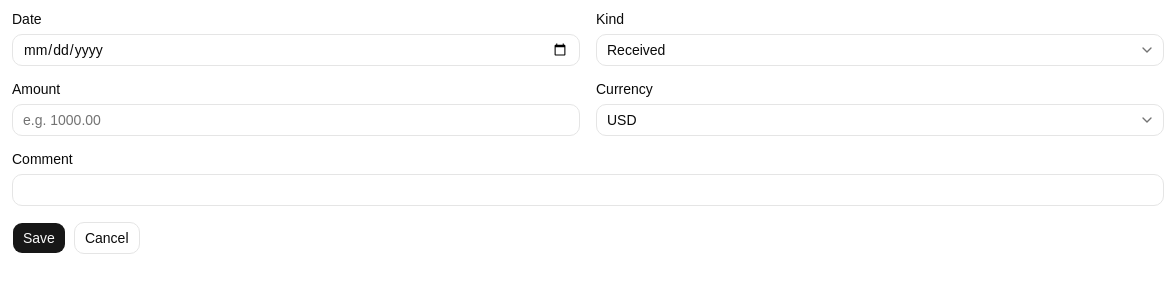
Scenario: DepositMovementForm › shows list-shaped server errors under the field
In the date field labelled "Date": x=296, y=50 [12, 34, 580, 66], type "2026-02-01"
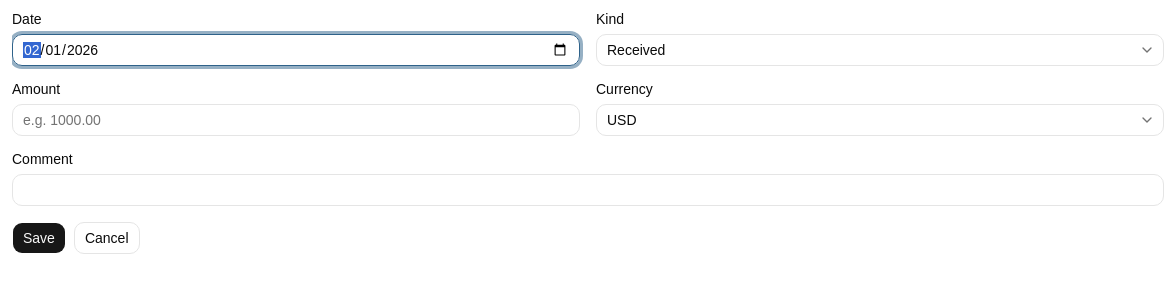
In the field labelled "Amount": x=296, y=120 [12, 104, 580, 136], type "5"
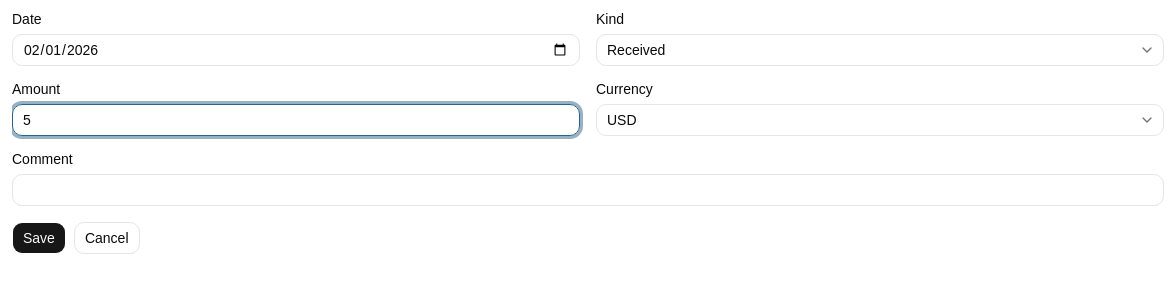
Click the button "Save": x=39, y=238 [12, 222, 66, 254]
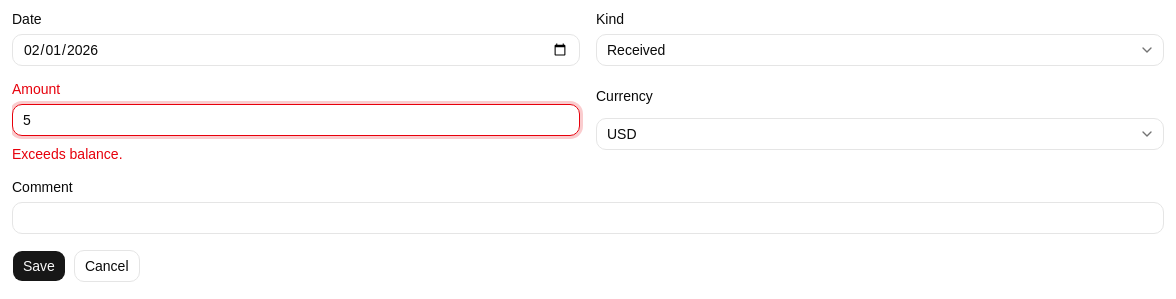
Now the text "Exceeds balance." is shown, box [12, 146, 122, 162]
